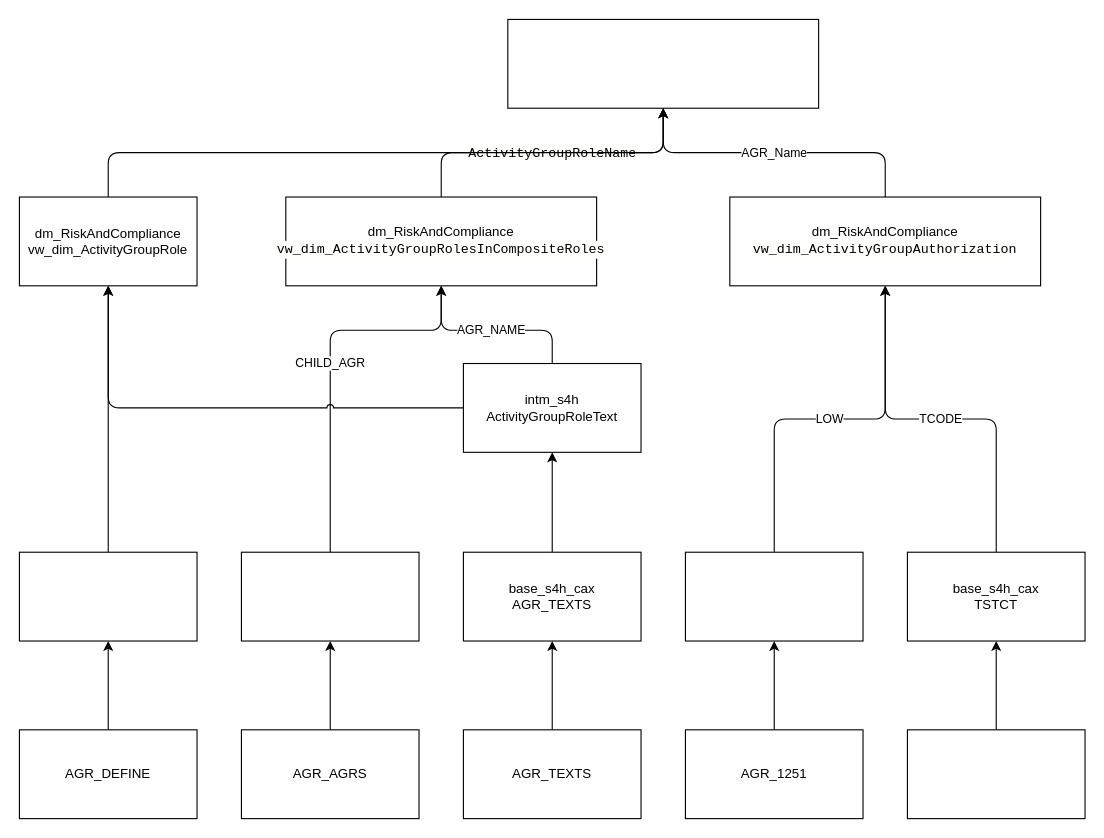
This 1104x838 diagram has some shape labels left out. The box of each missing label's shape, as (x1, y1, x2, y2) in pixels:
base_s4h_cax AGR_1251: (684, 551, 863, 641)
base_s4h_cax AGR_AGRS: (240, 551, 419, 641)
base_s4h_cax AGR_DEFINE: (18, 551, 197, 641)
PBI Risk And Compliance: (507, 18, 819, 108)
TSTCT: (906, 729, 1085, 819)
